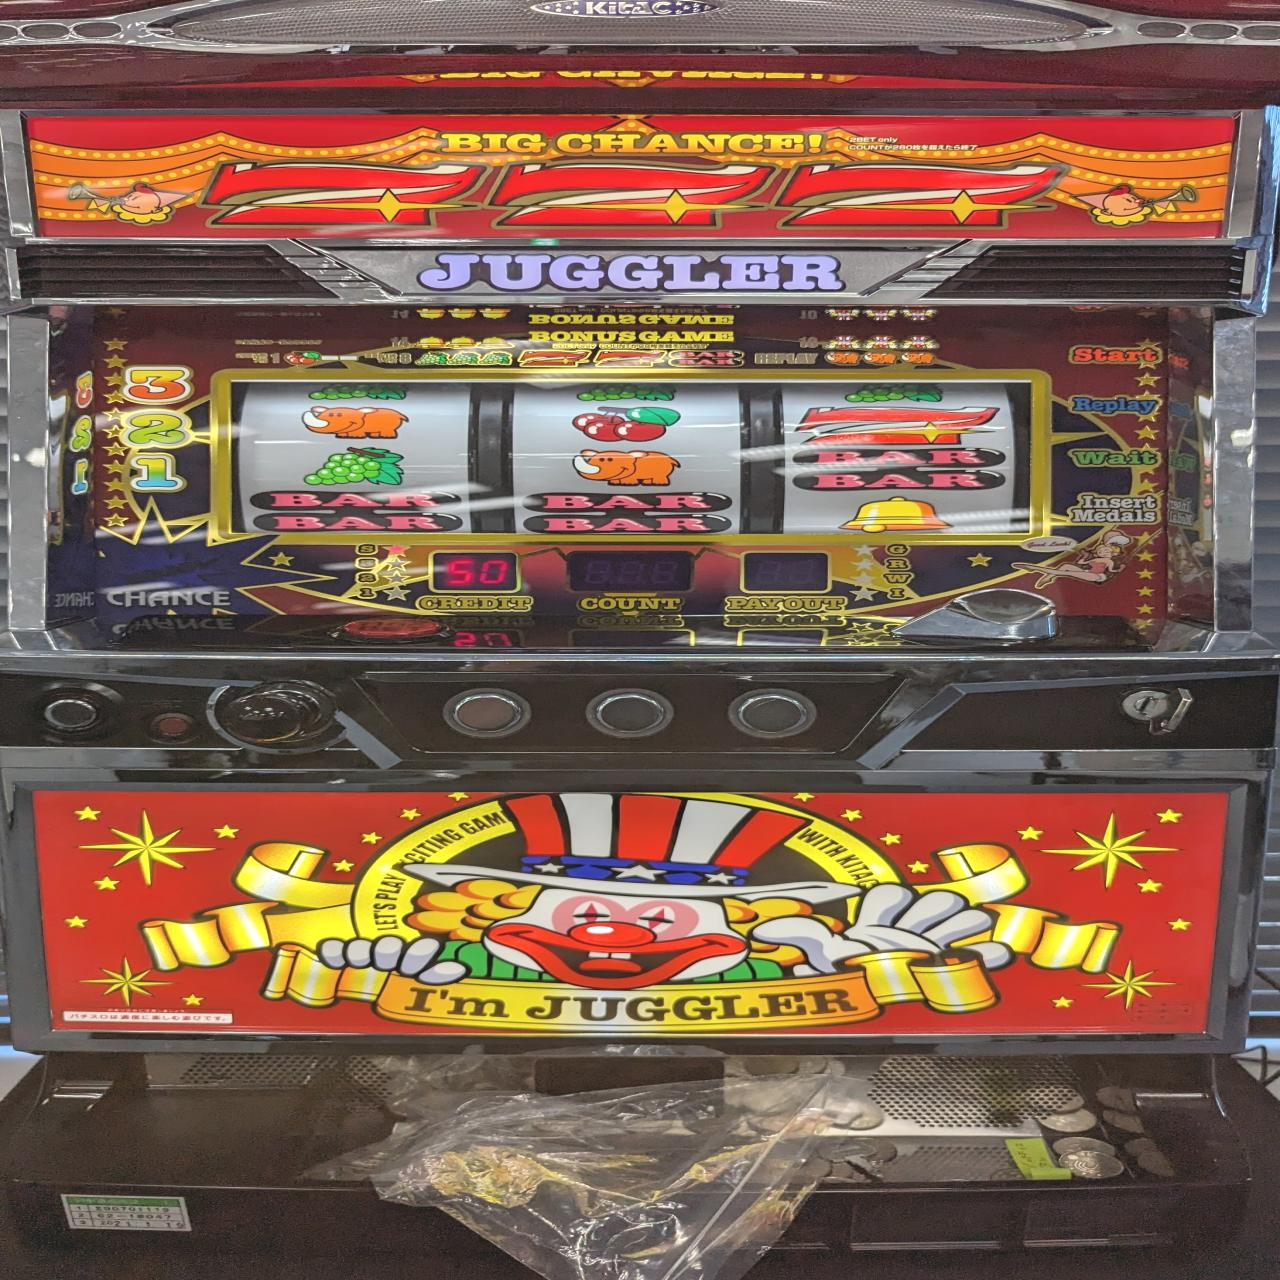7: (779, 402, 1009, 444)
8: (561, 445, 688, 489), (288, 403, 414, 441)
Display: (219, 369, 1042, 538)
bar: (240, 486, 472, 532), (513, 491, 741, 535), (784, 449, 1009, 491)
bell: (831, 495, 954, 536)
cherry: (564, 403, 683, 444)
grape: (297, 445, 414, 486)
